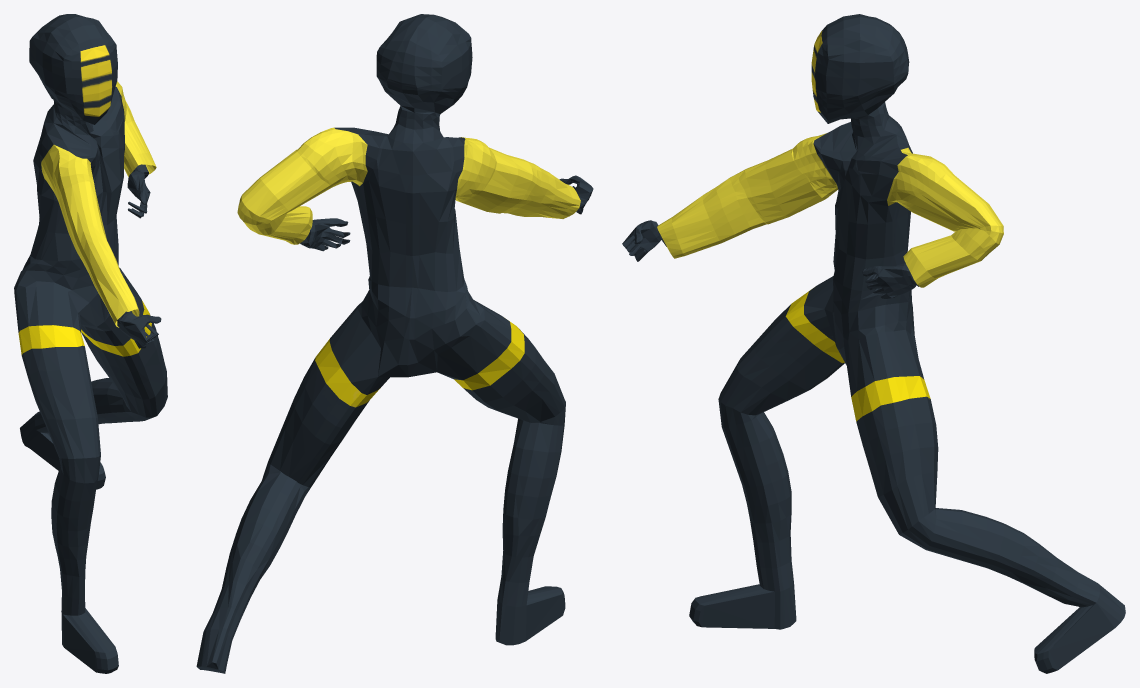
File: Sentry_WR_000019.obj
3 renders of one model, left to right at view 1: azimuth 30°, elevation 25°; view 2: azimuth 150°, elevation 25°; view 3: azimuth 270°, elevation 25°, orthographic. The views are drawn at different scales.
Visible parts, largest first — view 1: Cube; view 2: Cube; view 3: Cube.
Part boxes in pixels (x1=…): Cube: x1=14, y1=14, x2=167, y2=673; Cube: x1=196, y1=14, x2=593, y2=673; Cube: x1=622, y1=14, x2=1125, y2=673.
Size of the model in its own units: 1.22 by 3.59 by 2.62.
